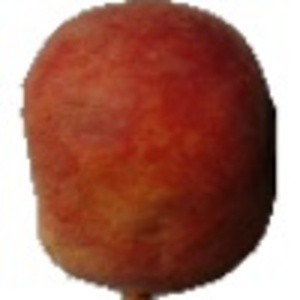pêssego: (19, 1, 278, 300)
